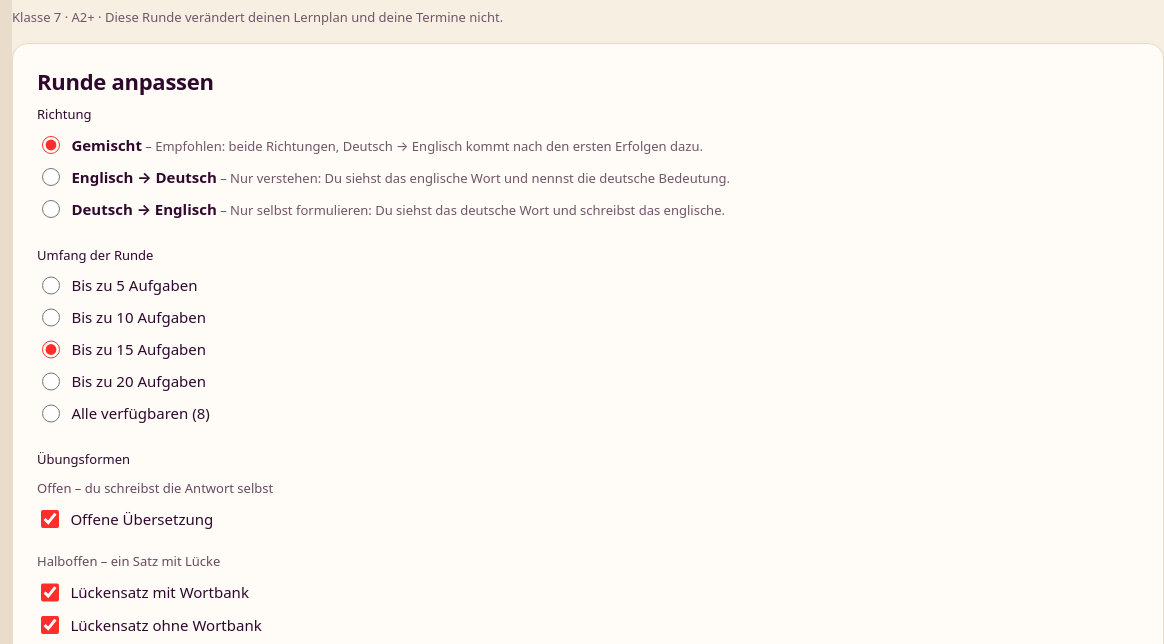
Freies Üben einrichten › nennt Verfügbarkeit und geplante Anzahl ehrlich
This screenshot has width=1164, height=644.
Expected: the heading "Runde anpassen" is shown, left=37, top=66, right=214, bottom=96
Click the radio button labelled "Bis zu 5 Aufgaben" at [51, 286], box left=42, top=276, right=60, bottom=295
(page scrolled)
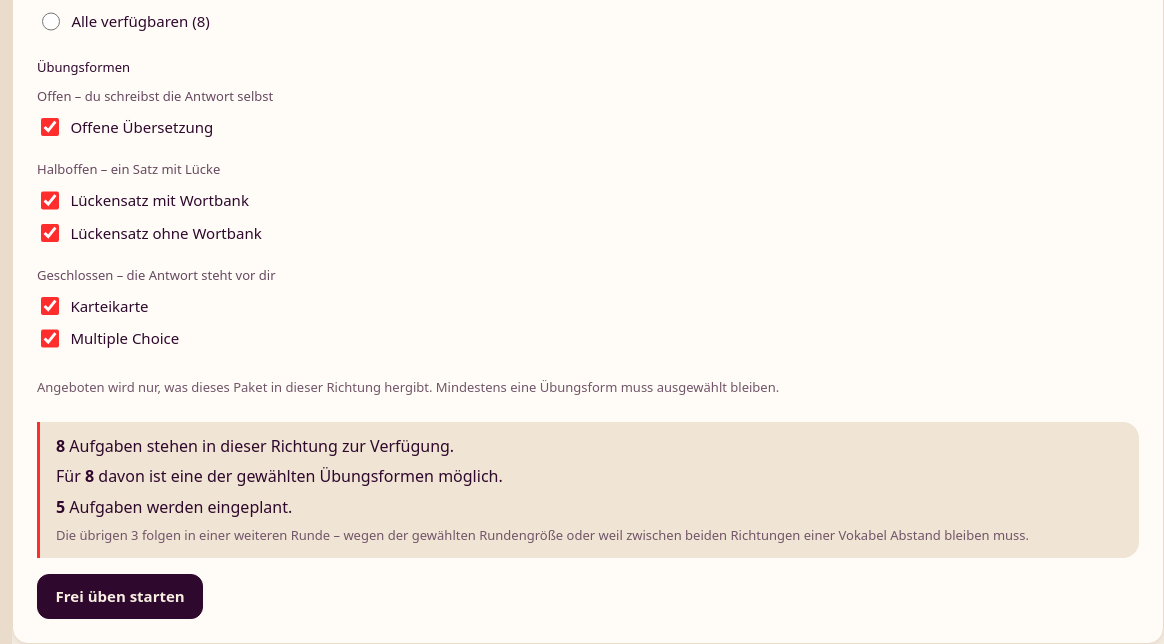
Expected: the element with class "self-test__preview" shows "5 Aufgaben werden eingeplant.", left=37, top=422, right=1139, bottom=558
Expected: the element with class "self-test__preview" shows "Die übrigen 3 folgen in einer weiteren Runde", left=37, top=422, right=1139, bottom=558
